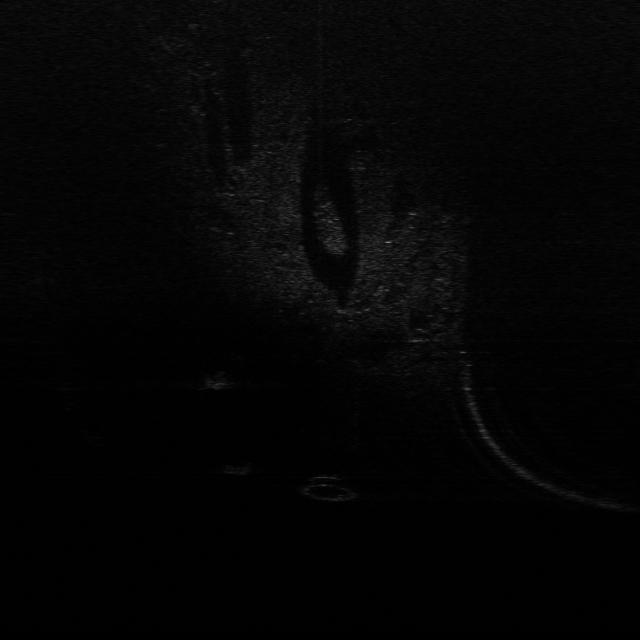cube: (220, 461, 252, 476)
square cage: (197, 368, 233, 392)
tyre: (298, 472, 359, 502)
